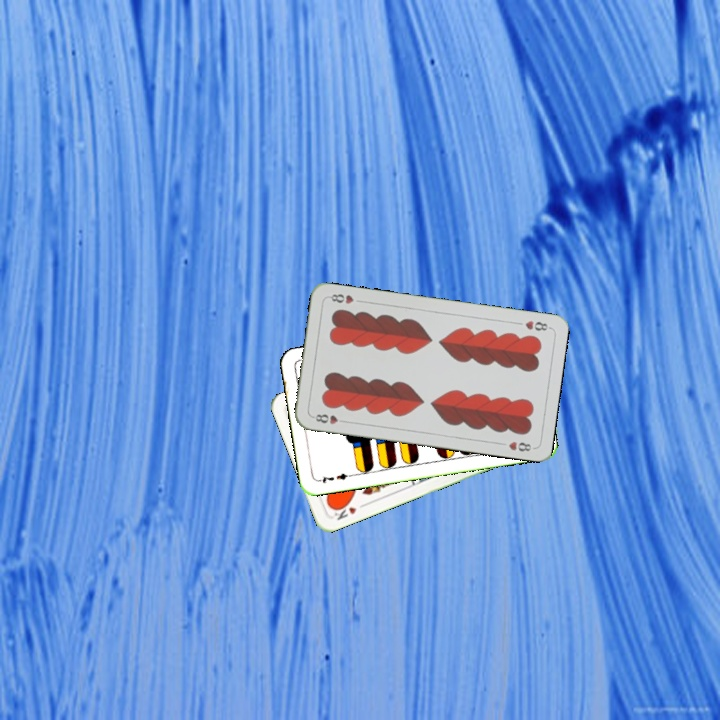E7: (314, 469, 355, 486)
H8: (309, 410, 349, 427), (521, 316, 552, 333)
HK: (329, 499, 368, 523)
